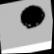correct: (13, 0, 49, 34)
